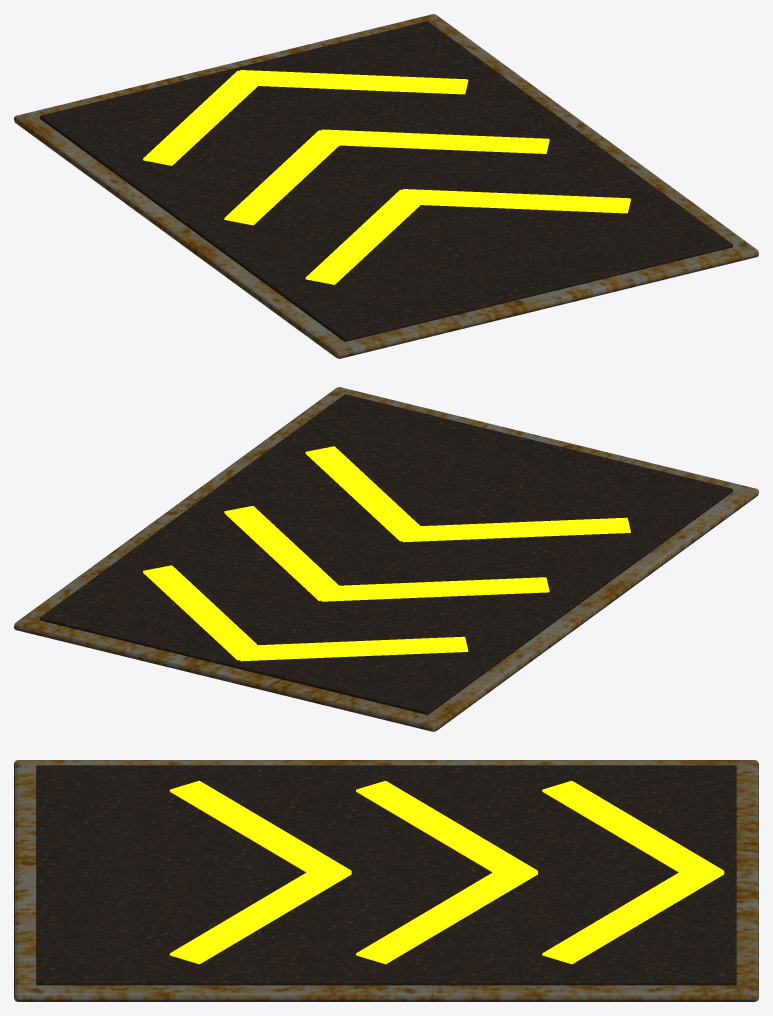
File: boost_pad.glb
The picture shows the model from 3 angles, top to bottom: view 1: azimuth 30°, elevation 25°; view 2: azimuth 150°, elevation 25°; view 3: azimuth 270°, elevation 25°; orthographic projection. The views are drawn at different scales.
Parts seen in each view (by area): view 1: boost_pad; view 2: boost_pad; view 3: boost_pad.
Part boxes in pixels (bbox=[...]): boost_pad: bbox=[14, 14, 758, 358]; boost_pad: bbox=[14, 387, 758, 731]; boost_pad: bbox=[14, 760, 758, 1001].
Size of the model in its own units: 3 by 0.083 by 4.
1 material, 1 textured.
